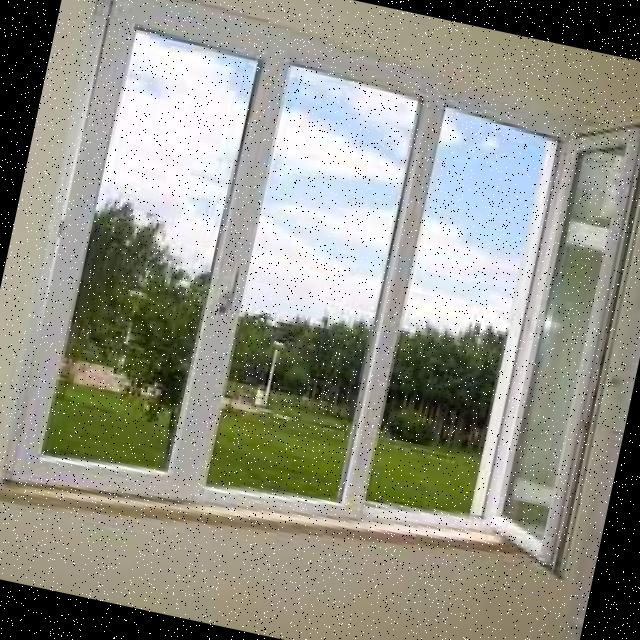Window: (0, 0, 640, 623)
